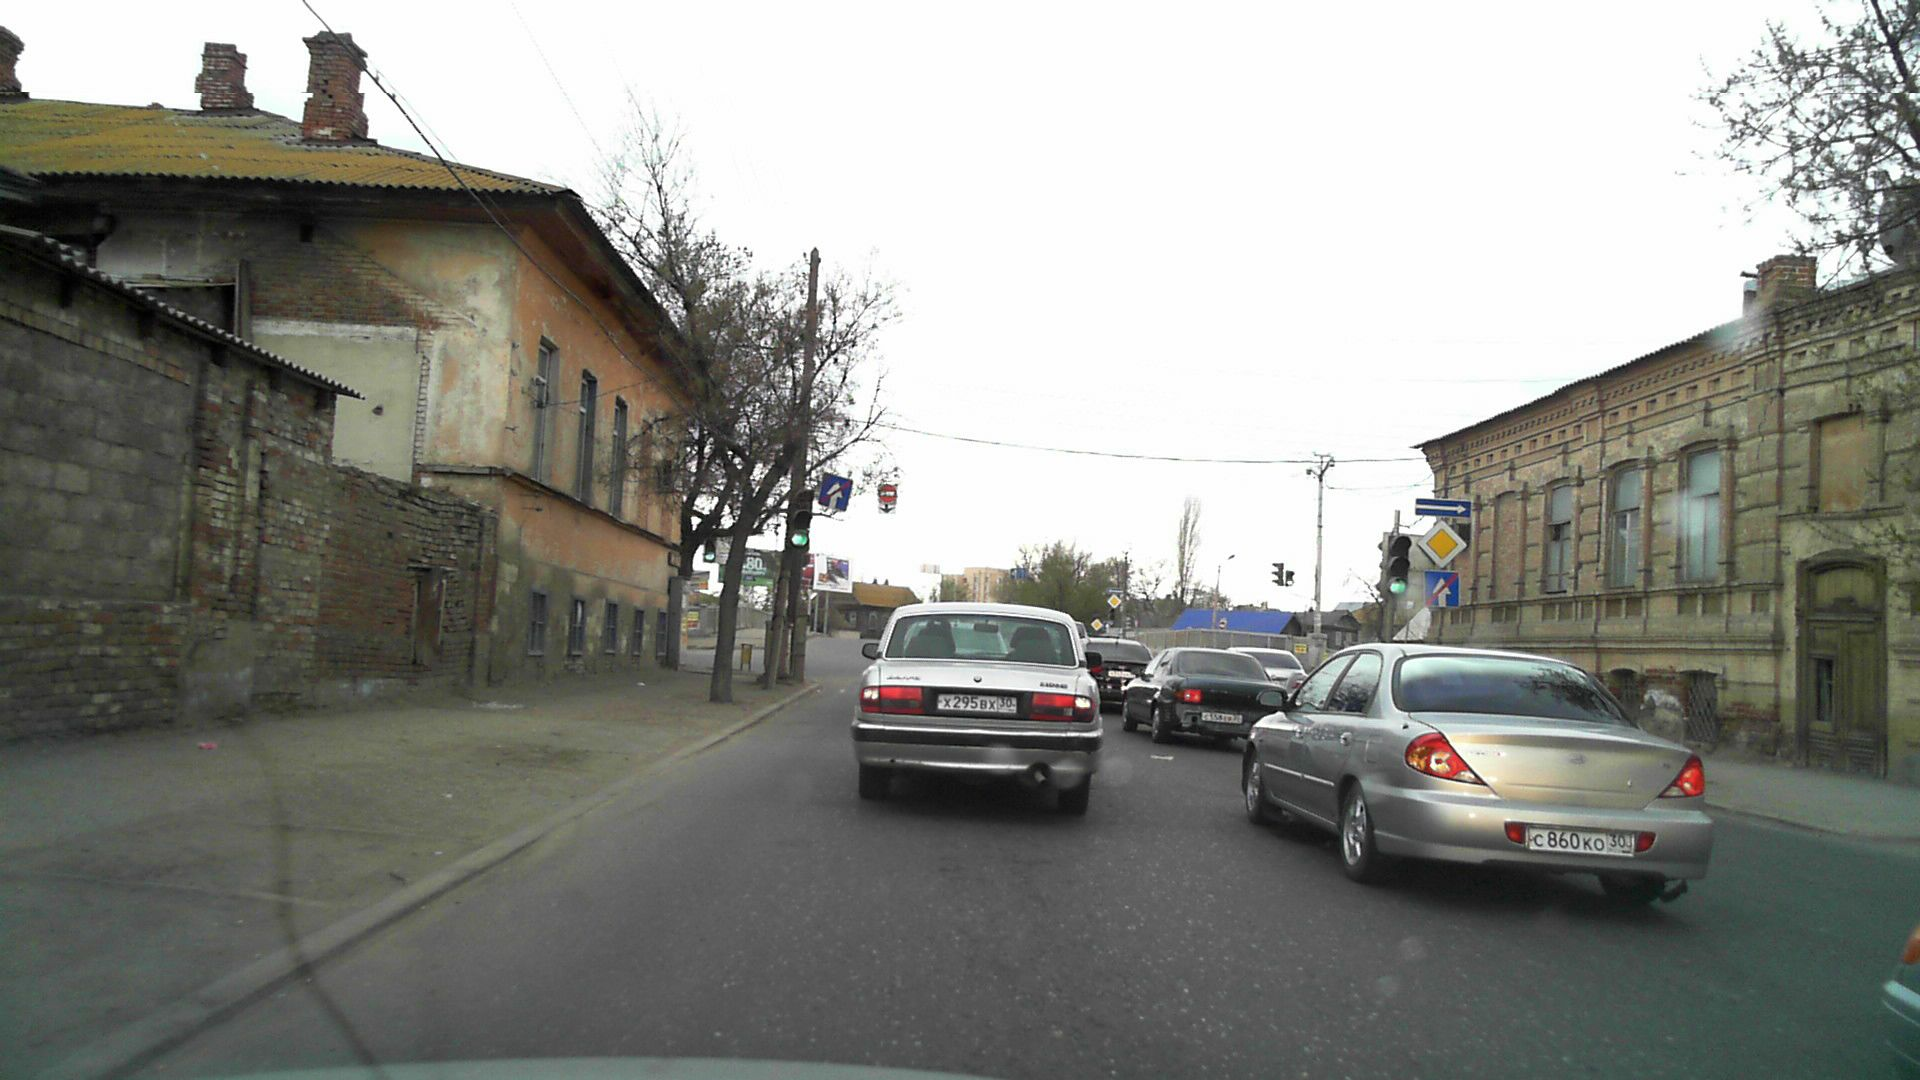One-Way Traffic: (1415, 498, 1472, 518)
